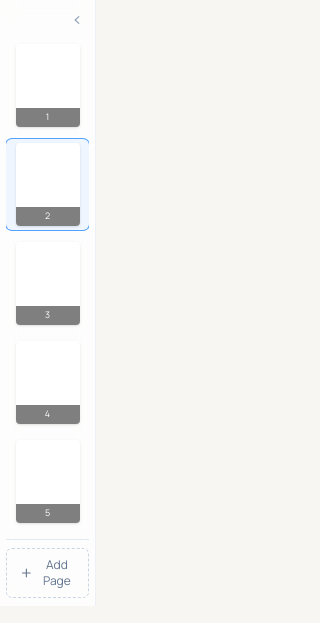
PageThumbnails › fold/unfold mechanism › should show page indicator when collapsed
What coordinates should you click on to do the following:
click the button titled "Collapse thumbnails"
I would click on:
 (77, 20)
Its box is [65, 8, 89, 32].
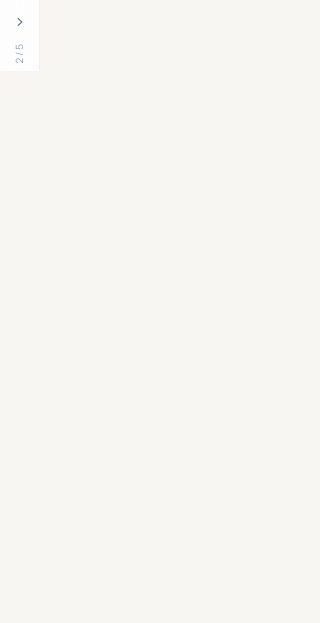
Result: the text "2 / 5" is shown at [12, 44, 26, 63]
